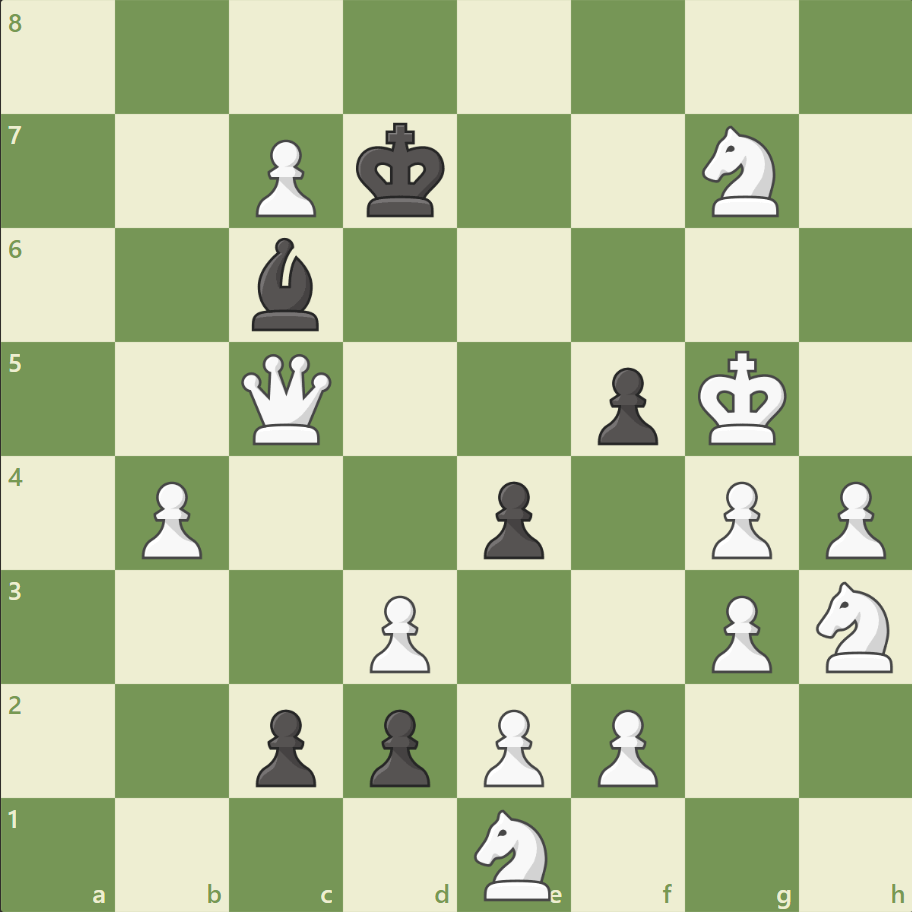K: (692, 344, 792, 452)
N: (692, 121, 789, 223), (806, 575, 903, 677), (465, 802, 562, 904)
P: (247, 132, 322, 223), (133, 473, 208, 564), (701, 473, 776, 564), (701, 586, 776, 677), (474, 700, 549, 791), (815, 473, 889, 564), (361, 586, 435, 677), (588, 700, 662, 791)
Q: (237, 349, 336, 449)
b: (244, 233, 328, 336)
k: (351, 117, 451, 225)
p: (474, 473, 549, 564), (247, 700, 322, 791), (588, 359, 662, 450), (361, 700, 435, 791)
